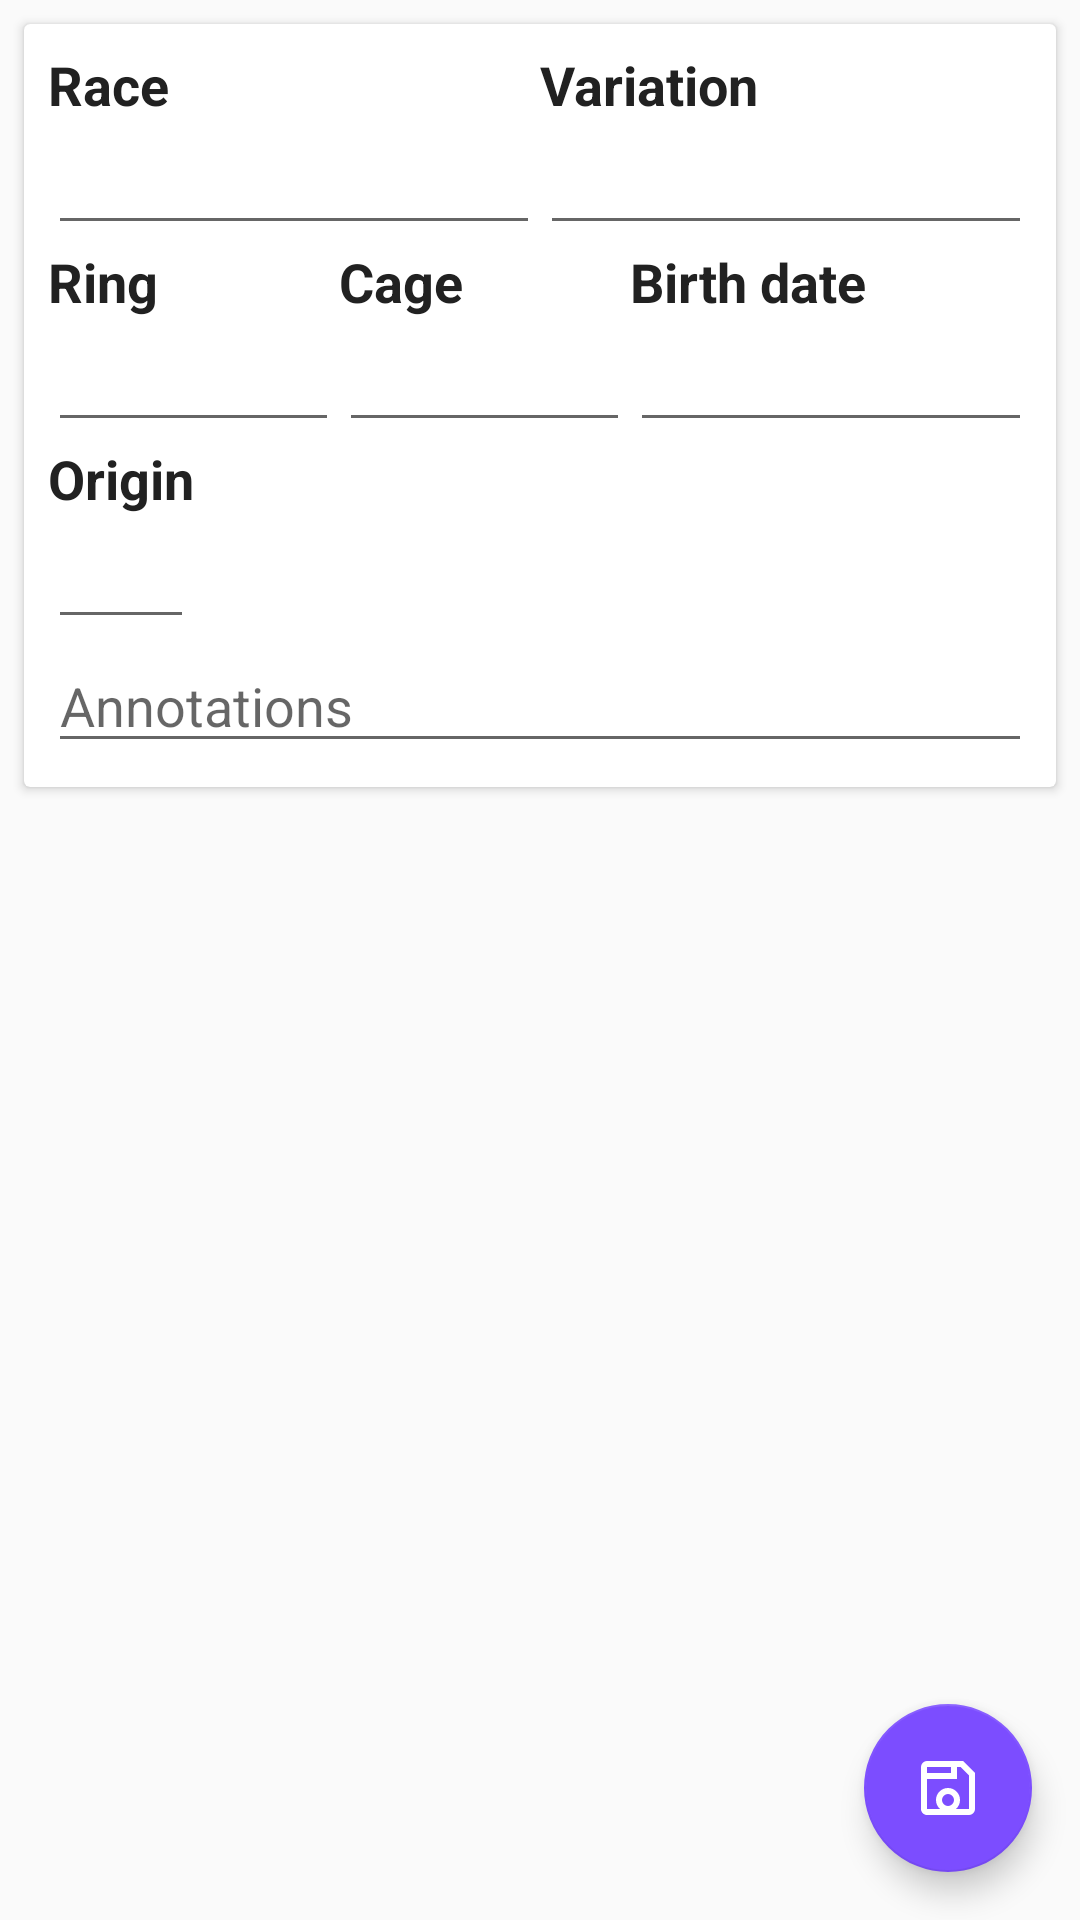

Named icons in this screenshot (1080*1920) and their bounding boxes, box(x1, y1, x2, y2):
content save: box(864, 1704, 1032, 1872)
